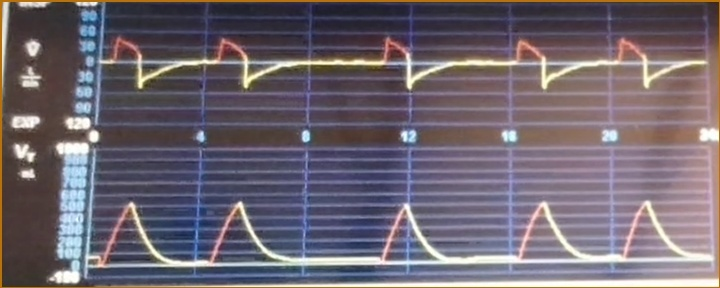Normal Flow: (103, 15, 705, 113)
Normal Volume: (92, 180, 711, 275)
